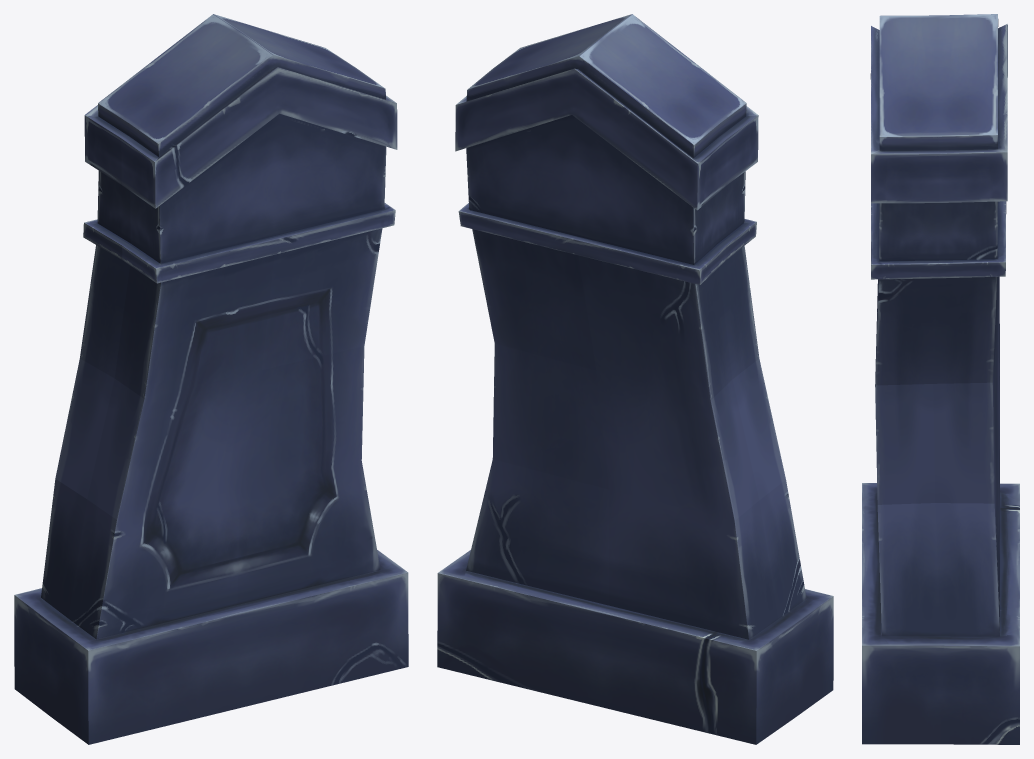
Rendered from gravestone2_3.fbx.
The picture shows the model from 3 angles, left to right: view 1: azimuth 30°, elevation 25°; view 2: azimuth 150°, elevation 25°; view 3: azimuth 270°, elevation 25°; orthographic projection. The views are drawn at different scales.
Visible parts, largest first — view 1: Cube.009; view 2: Cube.009; view 3: Cube.009.
Part boxes in pixels (x1,y1,x2,y2): Cube.009: (14,14,408,744); Cube.009: (437,14,833,744); Cube.009: (862,14,1019,744).
Size of the model in its own units: 236 by 446 by 96.16.
